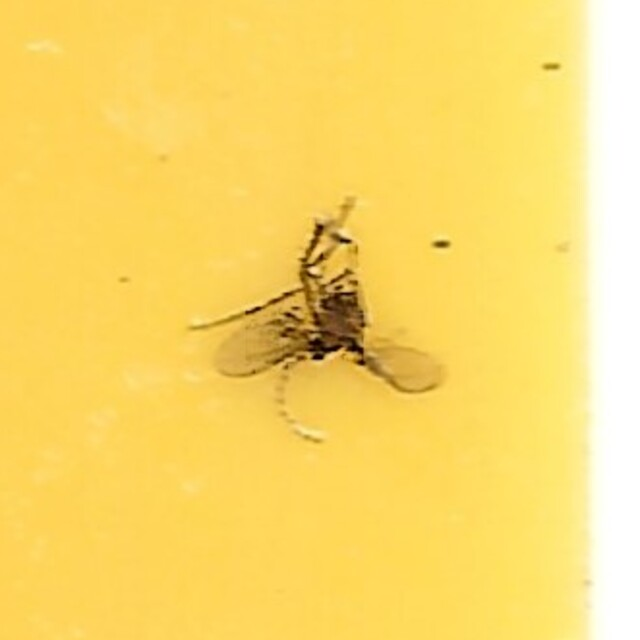Nematocera: (193, 203, 447, 437)
